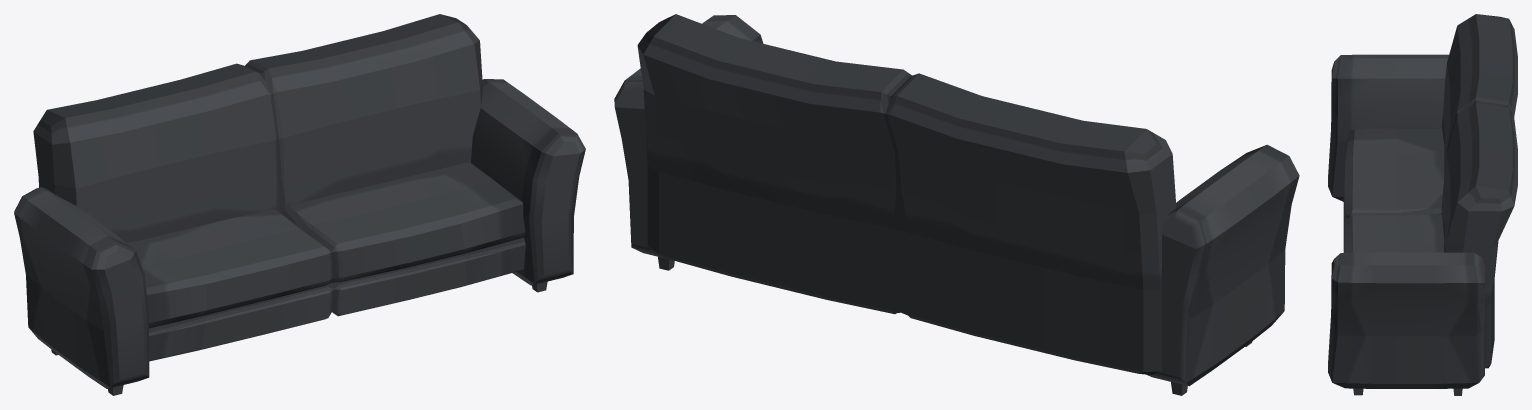
File: SM_Prop_Couch_02.fbx
3 renders of one model, left to right at view 1: azimuth 30°, elevation 25°; view 2: azimuth 150°, elevation 25°; view 3: azimuth 270°, elevation 25°, orthographic. The views are drawn at different scales.
Visible parts, largest first — view 1: SM_Prop_Couch_02; view 2: SM_Prop_Couch_02; view 3: SM_Prop_Couch_02.
Boxes of the visible parts, x1=… form: SM_Prop_Couch_02: x1=14, y1=14, x2=585, y2=395; SM_Prop_Couch_02: x1=614, y1=14, x2=1299, y2=395; SM_Prop_Couch_02: x1=1328, y1=14, x2=1517, y2=395.
Size of the model in its own units: 281 by 121 by 103.
